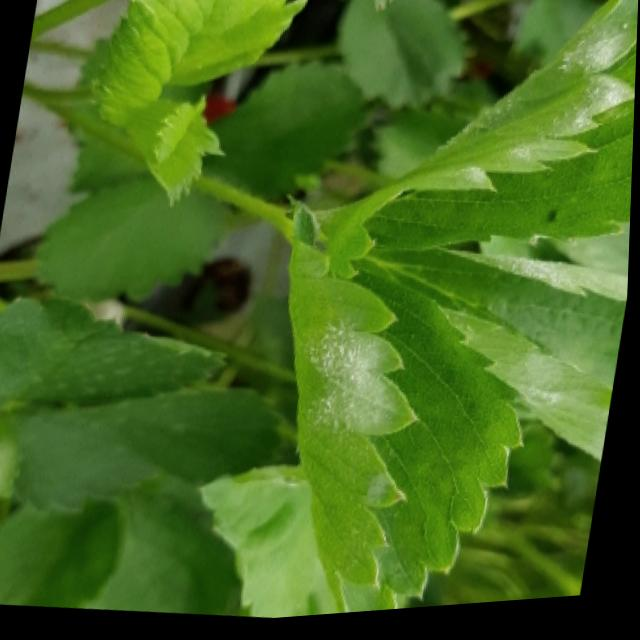Powdery Mildew Leaf: (290, 208, 534, 619), (313, 0, 639, 282), (356, 251, 631, 474)
